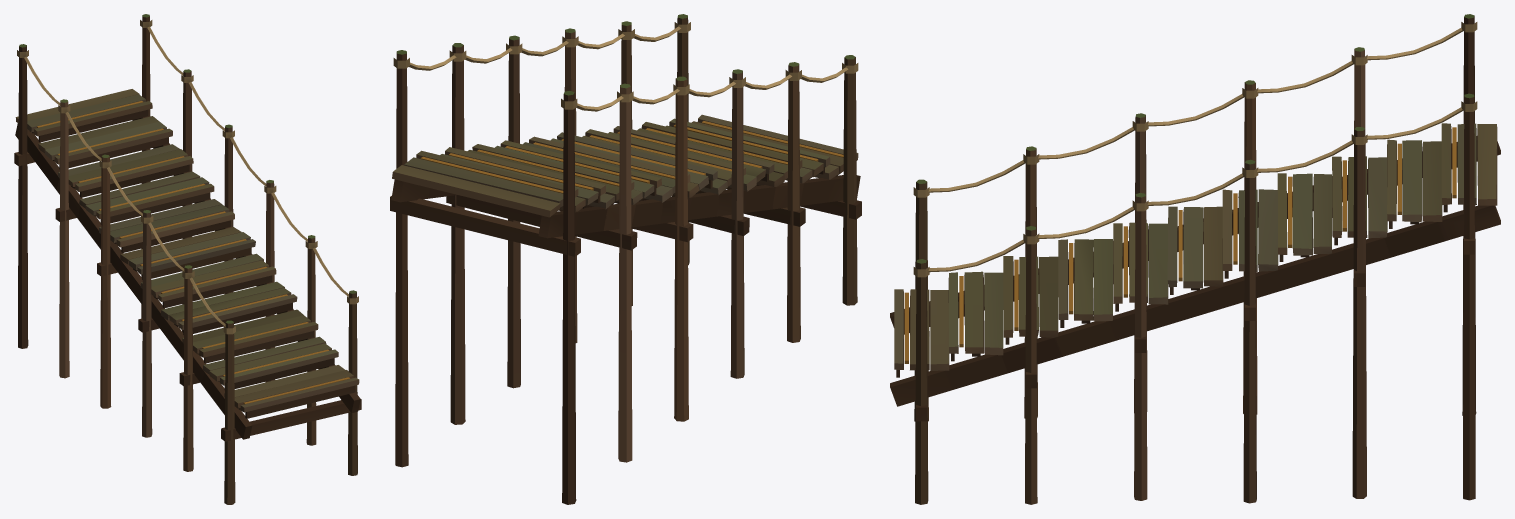
File: commit-steps.glb
The picture shows the model from 3 angles, left to right: view 1: azimuth 30°, elevation 25°; view 2: azimuth 150°, elevation 25°; view 3: azimuth 270°, elevation 25°; orthographic projection. The views are drawn at different scales.
Parts seen in each view (by area): view 1: step_00, step_08, step_06, step_10, step_02, step_04, step_01, step_03, step_05, step_09, step_07; view 2: step_10, step_08, step_06, step_04, step_02, step_00, step_09, step_07, step_05, step_03, step_01; view 3: step_08, step_06, step_10, step_04, step_02, step_00, step_03, step_09, step_01, step_05, step_07.
Boxes of the visible parts, box(x1,y1,x2,y2) form: step_00: box(190, 247, 361, 504); step_08: box(24, 26, 193, 378); step_06: box(65, 82, 234, 408); step_10: box(14, 14, 152, 348); step_02: box(148, 192, 318, 471); step_04: box(107, 137, 276, 437); step_01: box(201, 336, 338, 410); step_03: box(160, 281, 297, 356); step_05: box(118, 227, 255, 301); step_09: box(36, 116, 172, 189); step_07: box(77, 171, 214, 245); step_10: box(390, 50, 580, 504); step_08: box(409, 43, 637, 462); step_06: box(465, 35, 693, 421); step_04: box(521, 28, 749, 378); step_02: box(577, 21, 805, 342); step_00: box(633, 14, 861, 305); step_09: box(428, 147, 607, 234); step_07: box(495, 140, 663, 227); step_05: box(550, 132, 719, 220); step_03: box(608, 126, 775, 212); step_01: box(666, 118, 832, 205); step_08: box(1329, 28, 1463, 498); step_06: box(1219, 60, 1353, 503); step_10: box(1438, 14, 1500, 500); step_04: box(1109, 94, 1244, 500); step_02: box(1001, 127, 1134, 504); step_00: box(890, 160, 1024, 504); step_03: box(1054, 239, 1116, 356); step_09: box(1383, 139, 1445, 257); step_01: box(945, 271, 1007, 389); step_05: box(1164, 206, 1226, 323); step_07: box(1274, 173, 1335, 290).
Size of the model in its own units: 1.66 by 3.57 by 4.87.
